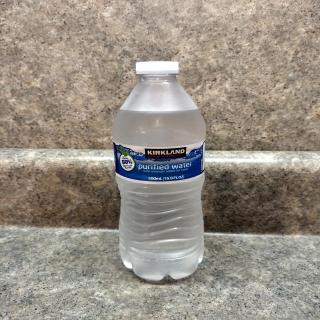Anorganik: (108, 54, 220, 288)
